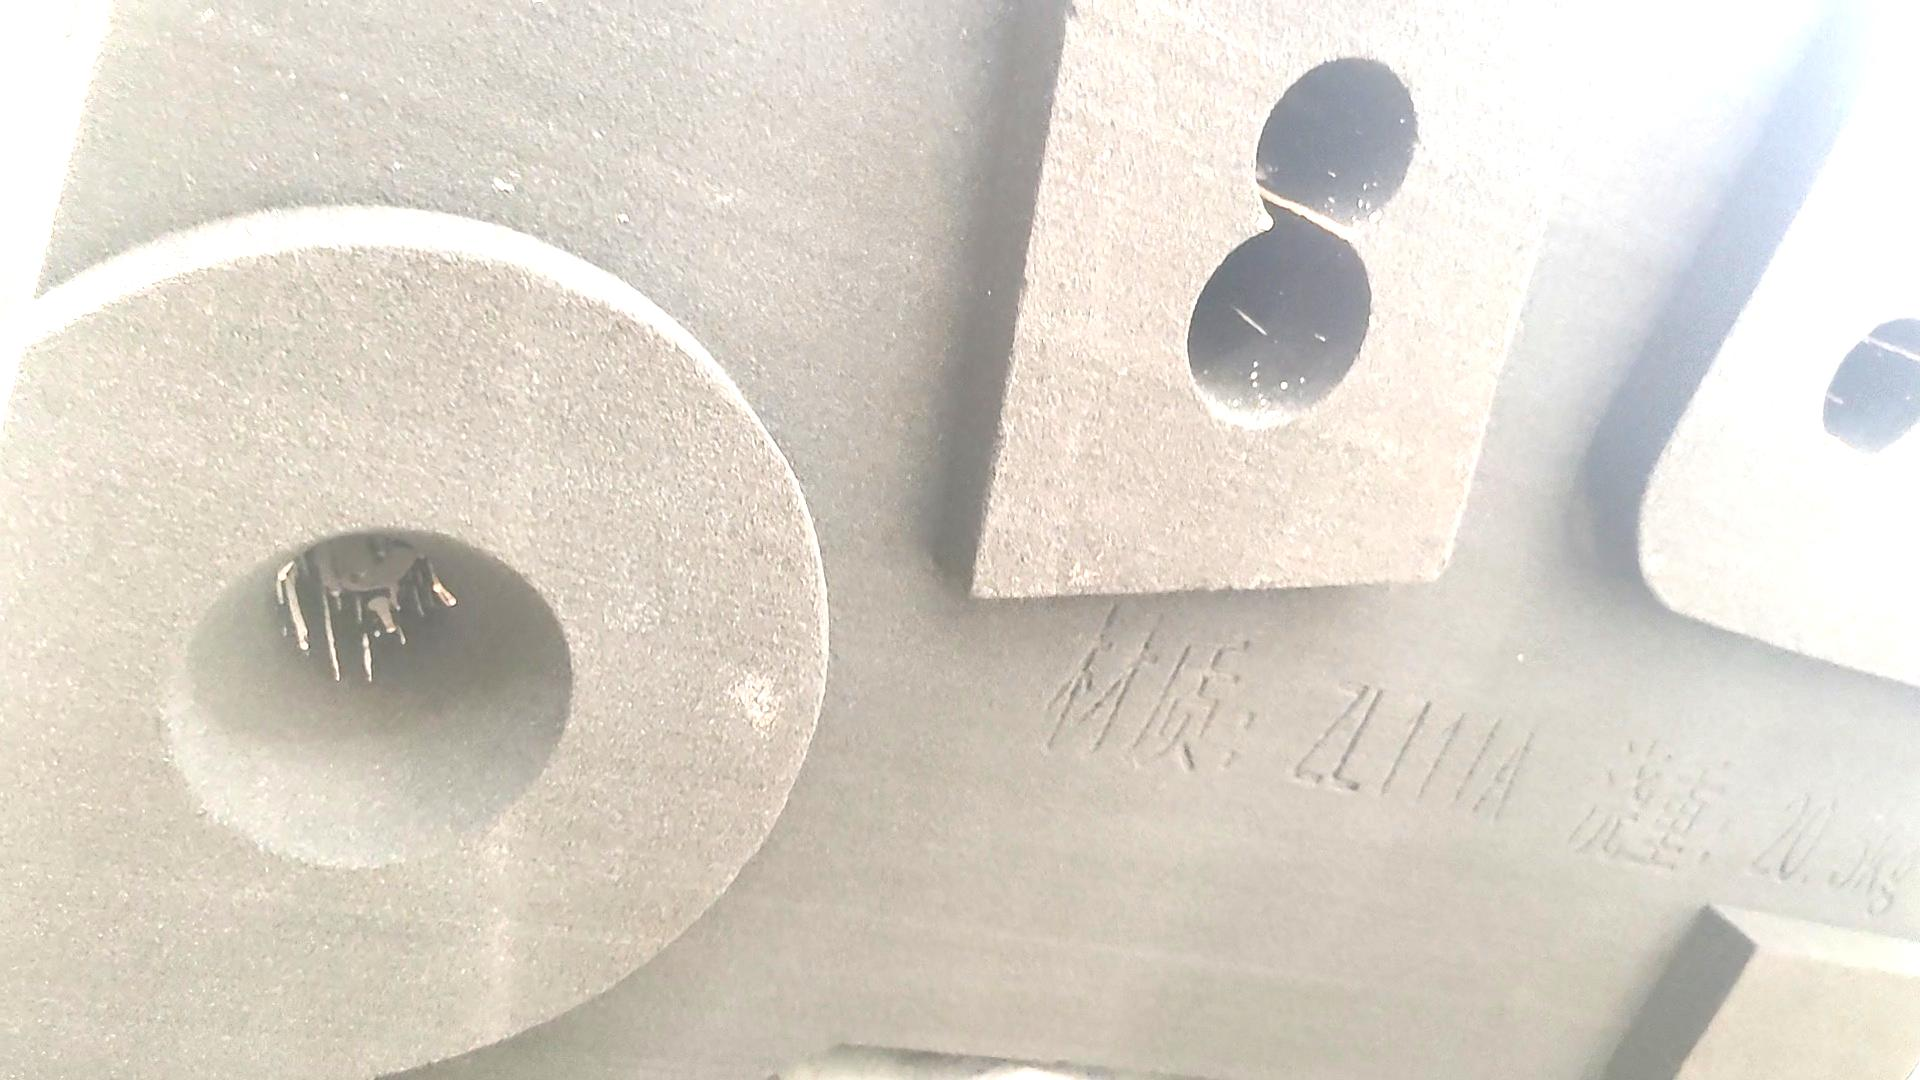pouring hole: (166, 529, 574, 866)
